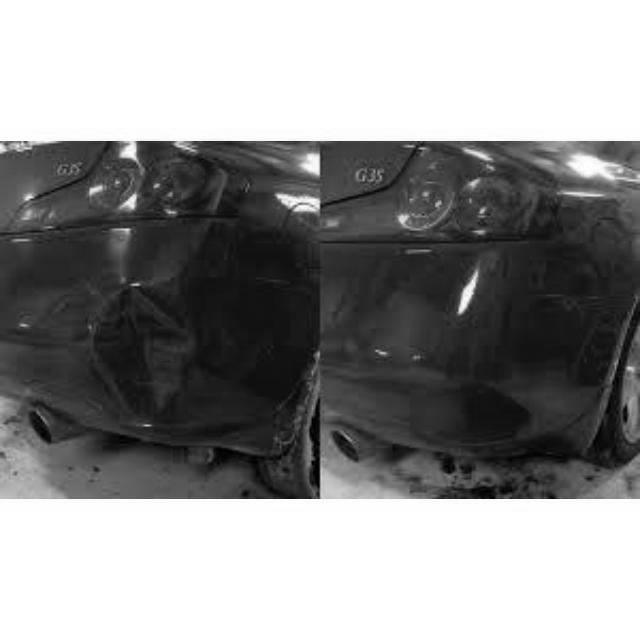rear-bumper-dent: (1, 199, 314, 465)
